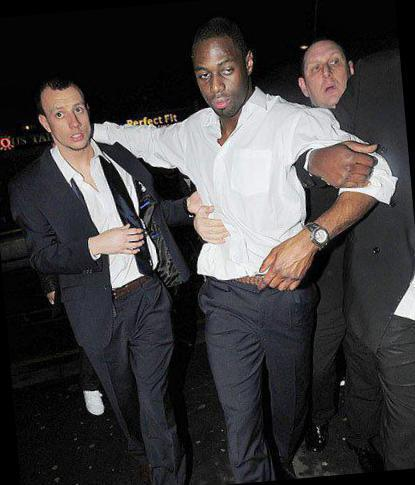Drunk: (193, 40, 245, 114)
Sober: (37, 90, 89, 148), (303, 45, 347, 107)
